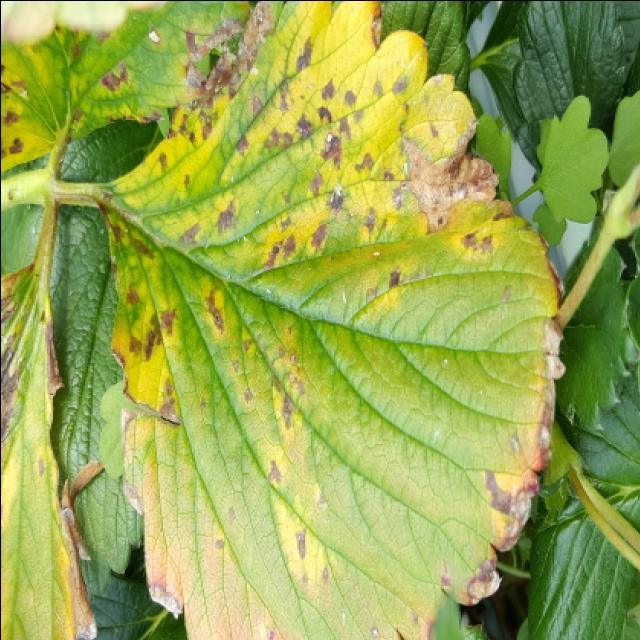Angular Leafspot: (90, 2, 566, 640), (0, 2, 255, 171), (0, 231, 105, 640)
